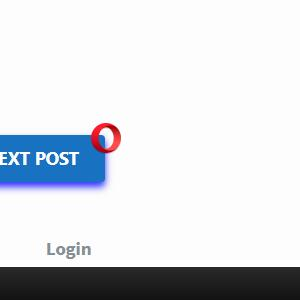opera: (91, 122, 121, 153)
